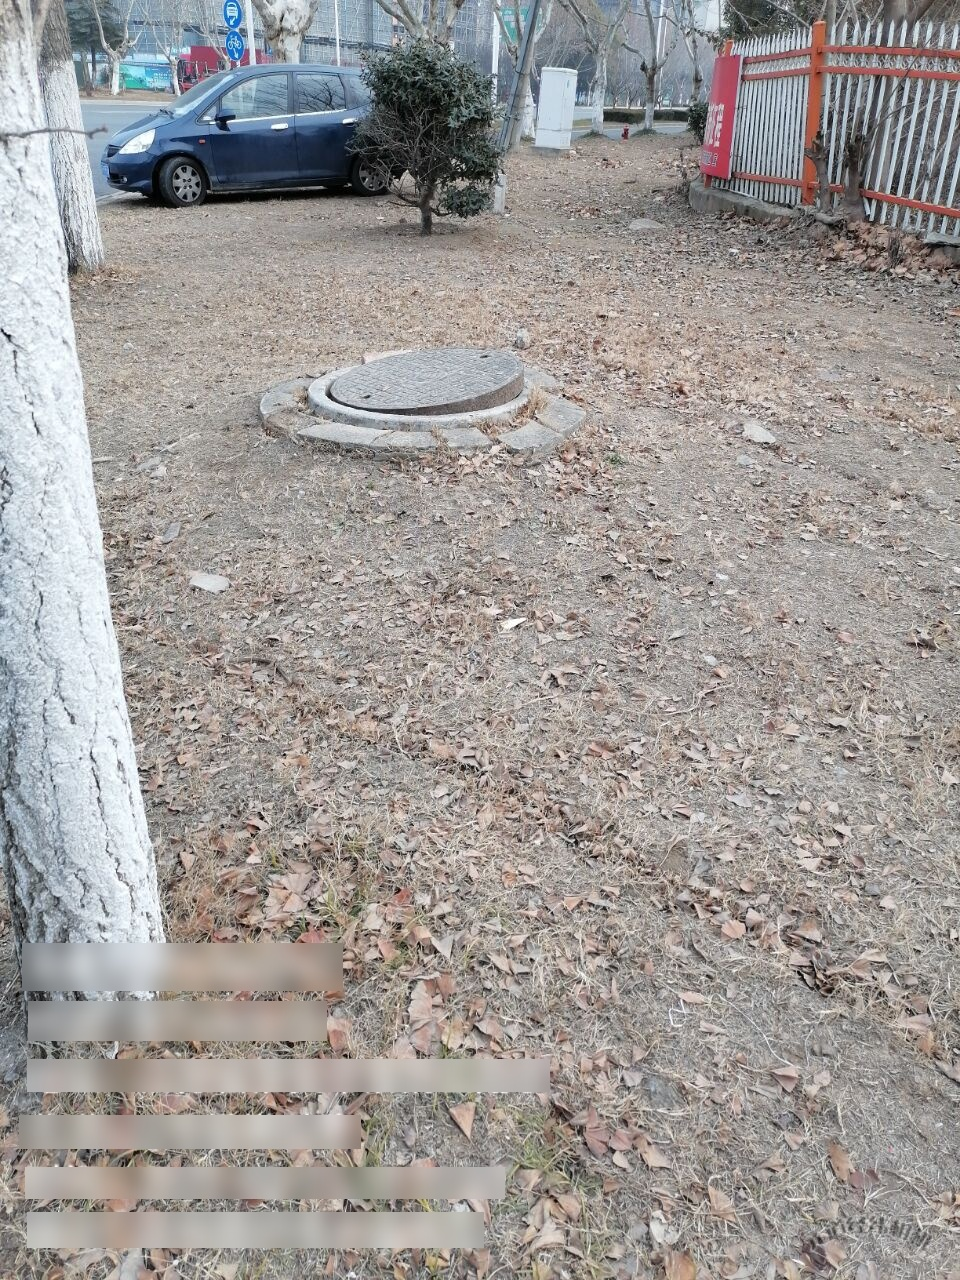uncovered: (298, 344, 533, 422)
